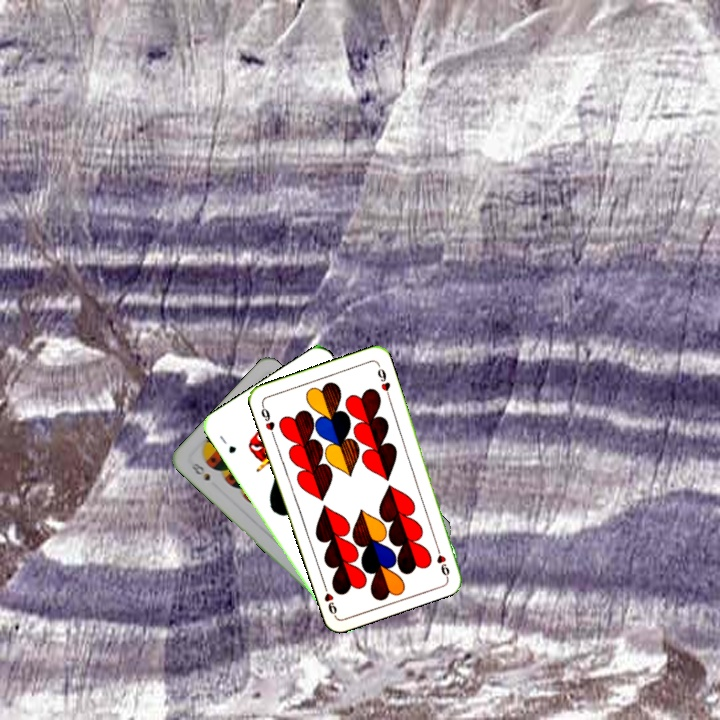GU: (215, 431, 239, 456)
H9: (431, 539, 452, 579), (257, 400, 277, 439)
S8: (187, 459, 213, 483)
